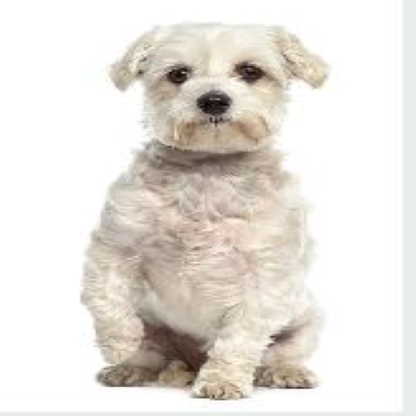maltese: (79, 16, 330, 399)
